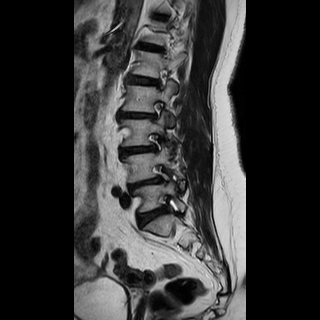LFS0: (144, 96, 170, 126), (147, 64, 172, 95)
LFS1: (143, 127, 170, 159), (148, 159, 174, 191)
